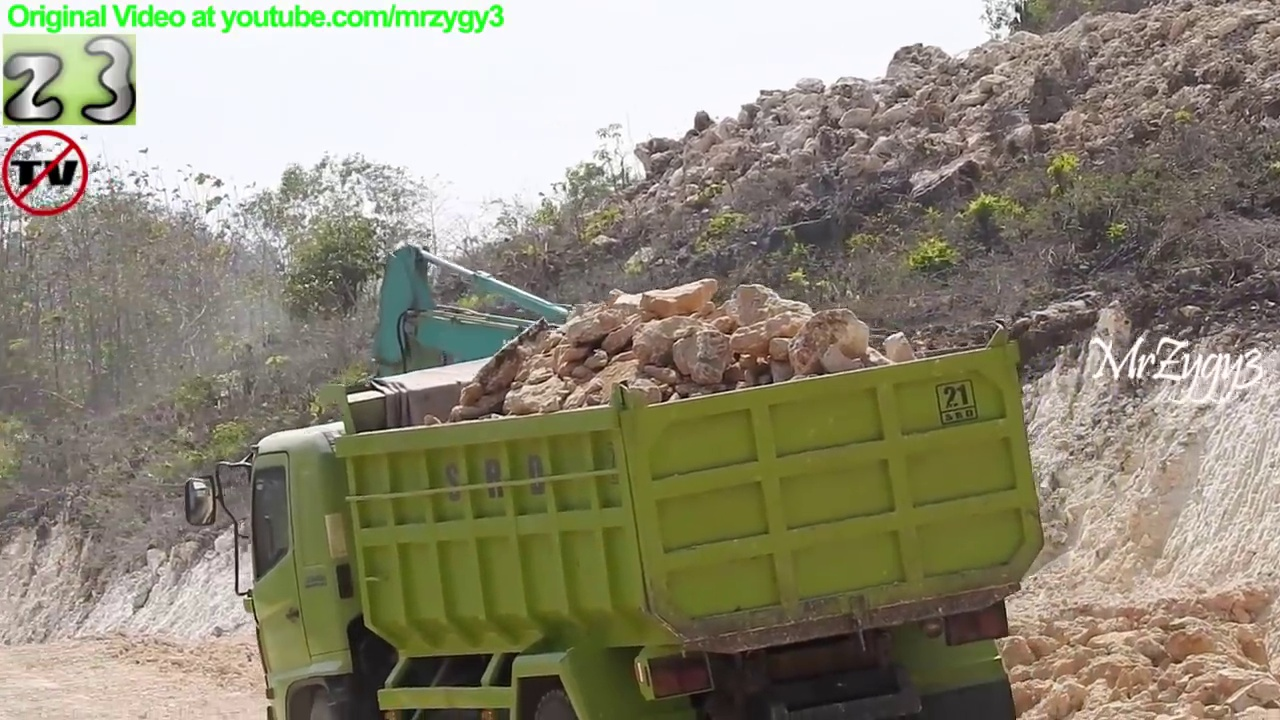excavator: (338, 236, 912, 672)
truck: (178, 313, 1053, 720)
